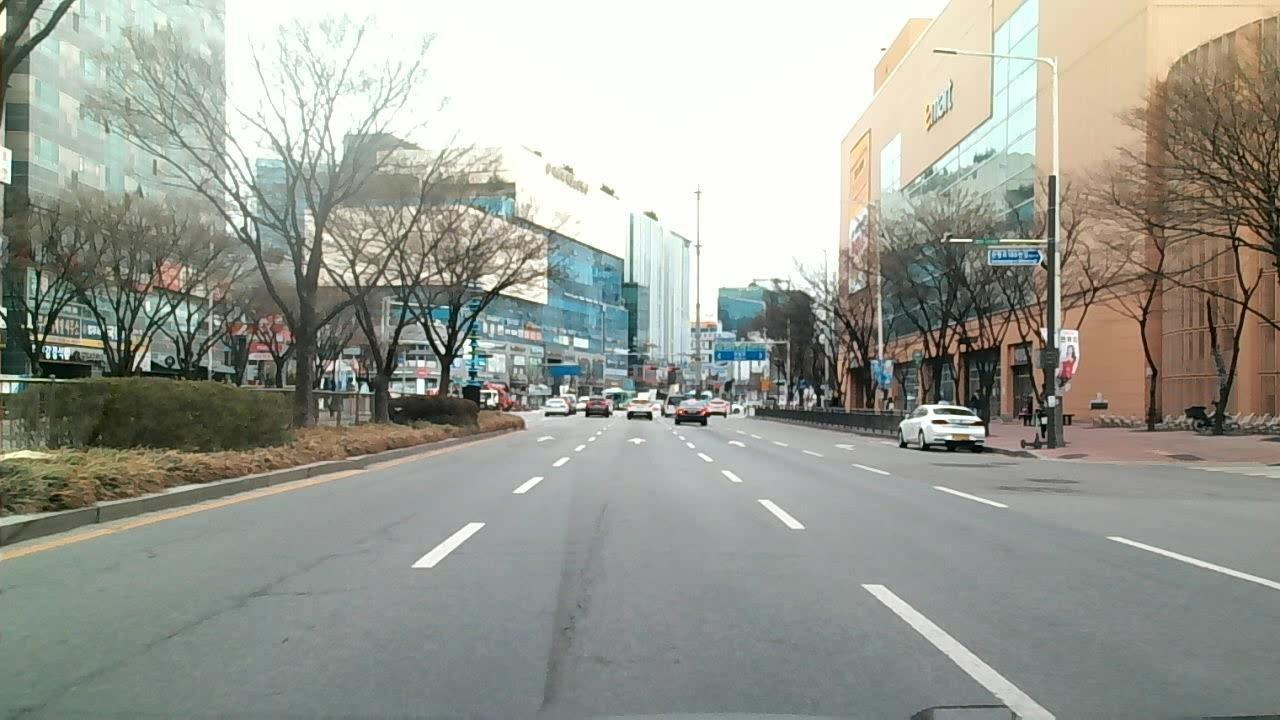erosion: (542, 572, 598, 720)
vcrack: (245, 518, 412, 601)
